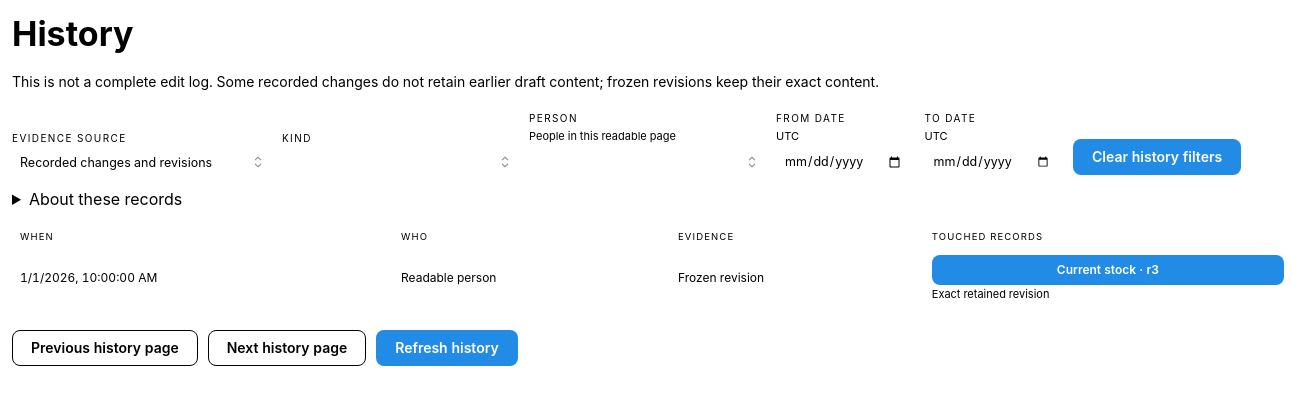
Test: source and kind choices persist in the URL and current drafts are labeled separately
Expected: the table named "Workspace history" is shown, [12,224,1291,306]
Click the dropdown labelled "Evidence source" at coordinates (142, 162), box [12,149,272,175]
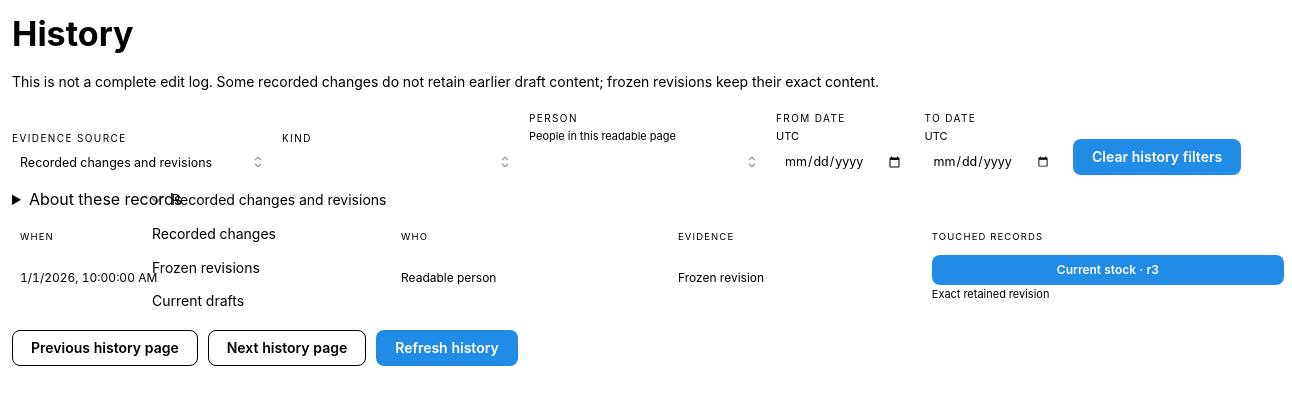
Click the option "Current drafts" at coordinates (198, 301), box [152,292,244,309]
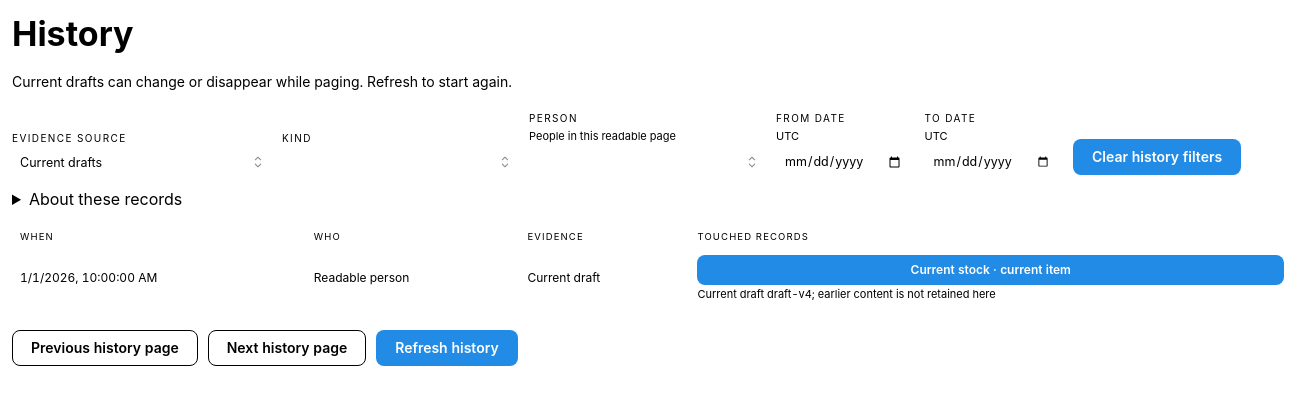
Now the button "Current stock · current item" is shown, box [698,255,1284,285]
Now the text "Current drafts can change or disappear" is shown, box [12,73,512,90]
Click the dropdown labelled "Kind" at coordinates (400, 162), box [282,149,519,175]
(page scrolled)
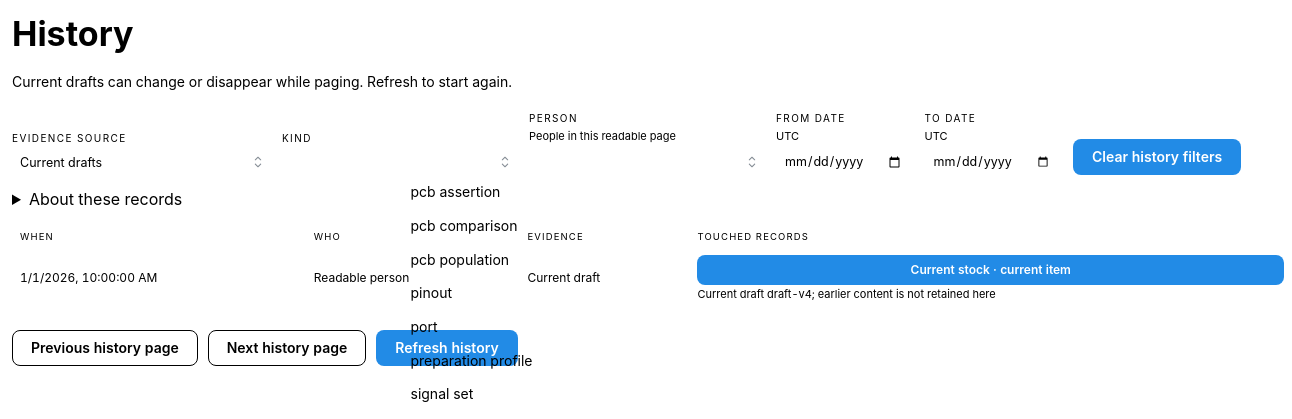
Click the option "pinout" at coordinates (431, 293), box [410,284,452,301]
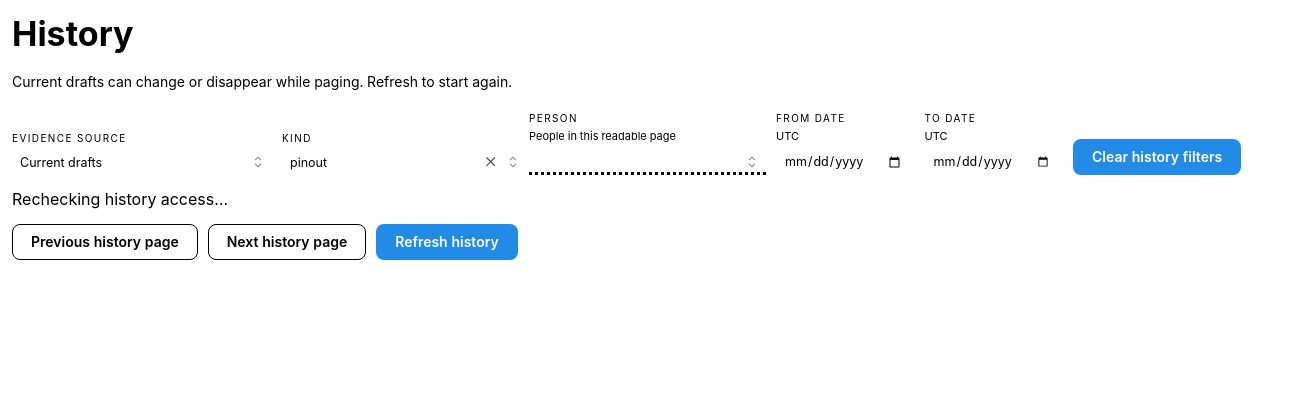
Click the button "Clear history filters" at coordinates (1157, 157), box [1073,139,1241,175]
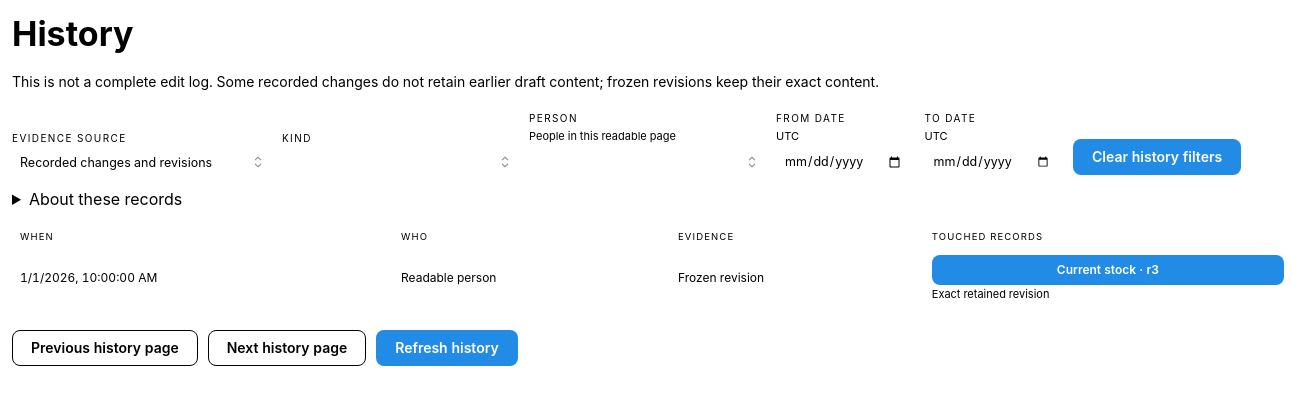
Now the button "Current stock · r3" is shown, box [932,255,1284,285]
